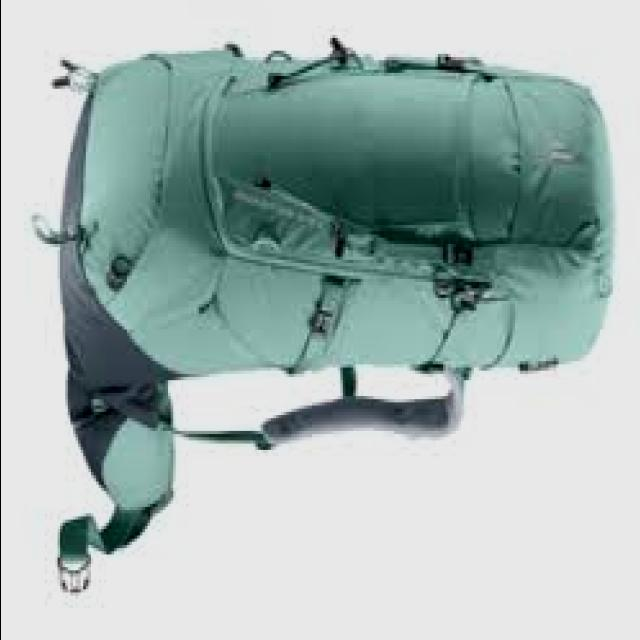backpack: (34, 36, 618, 594)
